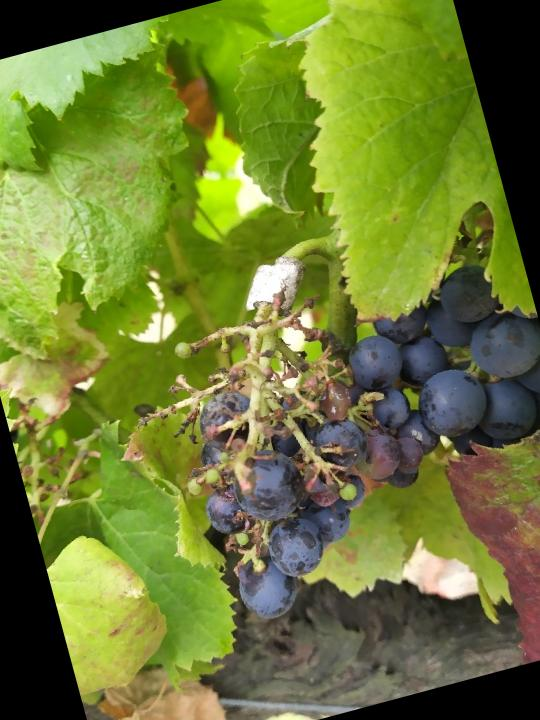grape: (115, 274, 456, 644)
